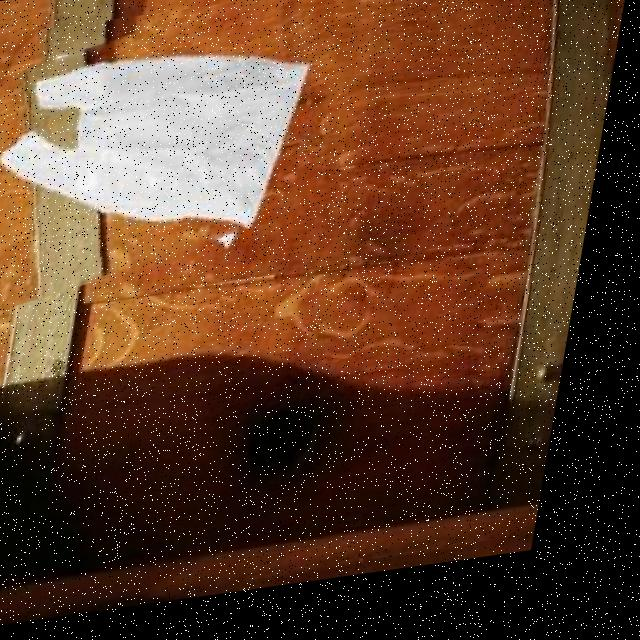litter: (0, 0, 370, 300)
